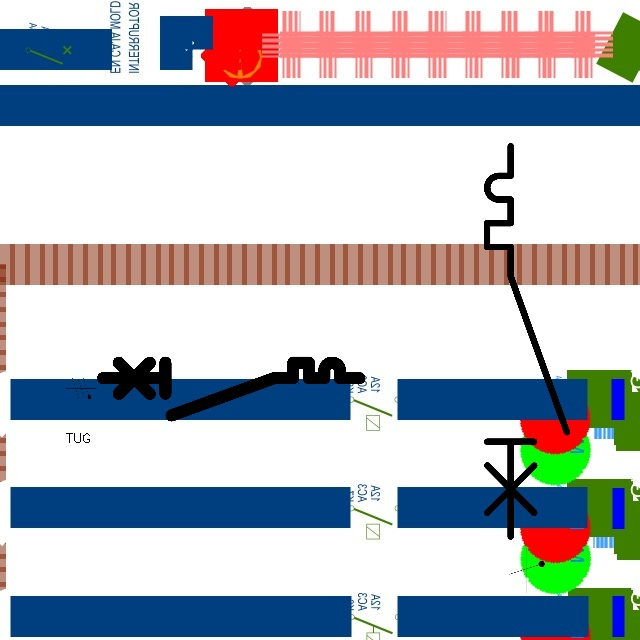interruptor_termomagnetico: (477, 136, 577, 546), (96, 356, 366, 422)
